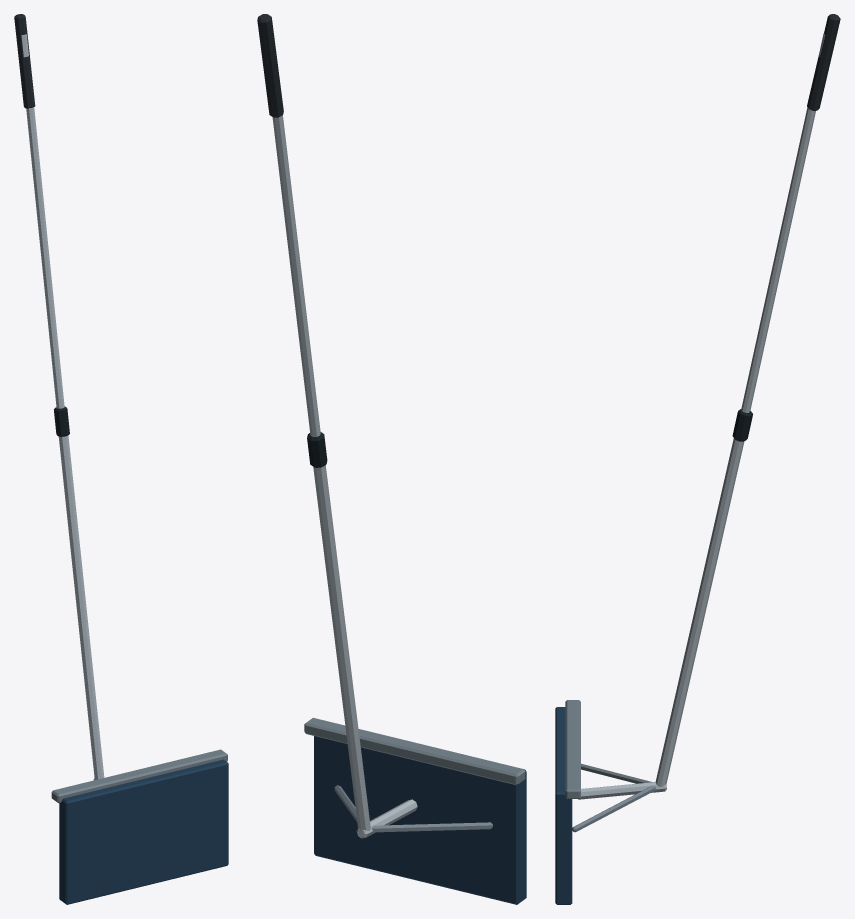
Rendered from b20_telescopic_roof_snow_rake.glb.
The picture shows the model from 3 angles, left to right: view 1: azimuth 30°, elevation 25°; view 2: azimuth 150°, elevation 25°; view 3: azimuth 270°, elevation 25°; orthographic projection. The views are drawn at different scales.
Parts seen in each view (by area): view 1: b20_telescopic_roof_snow_rake; view 2: b20_telescopic_roof_snow_rake; view 3: b20_telescopic_roof_snow_rake.
Part boxes in pixels (x1,y1,x2,y2): b20_telescopic_roof_snow_rake: (14,14,228,904); b20_telescopic_roof_snow_rake: (257,14,526,904); b20_telescopic_roof_snow_rake: (555,14,840,904).
Bounding box in the file's own units: 0.69 × 3 × 0.9168.
